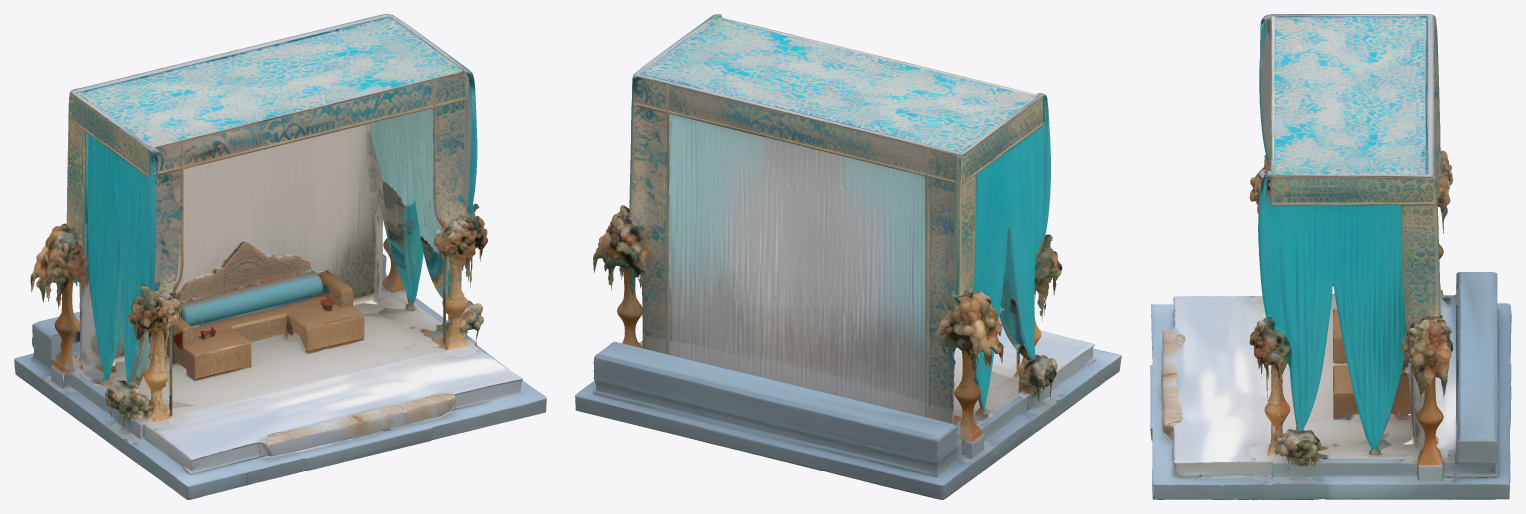
The model's file is base_basic_shaded.glb.
The picture shows the model from 3 angles, left to right: view 1: azimuth 30°, elevation 25°; view 2: azimuth 150°, elevation 25°; view 3: azimuth 270°, elevation 25°; orthographic projection. The views are drawn at different scales.
Visible parts, largest first — view 1: model; view 2: model; view 3: model.
Part boxes in pixels (x1=…): model: x1=14, y1=14, x2=546, y2=499; model: x1=575, y1=14, x2=1121, y2=499; model: x1=1150, y1=14, x2=1511, y2=499.
Bounding box in the file's own units: 1.89 × 1.42 × 1.47.
Materials: 1 (1 with a texture image).
